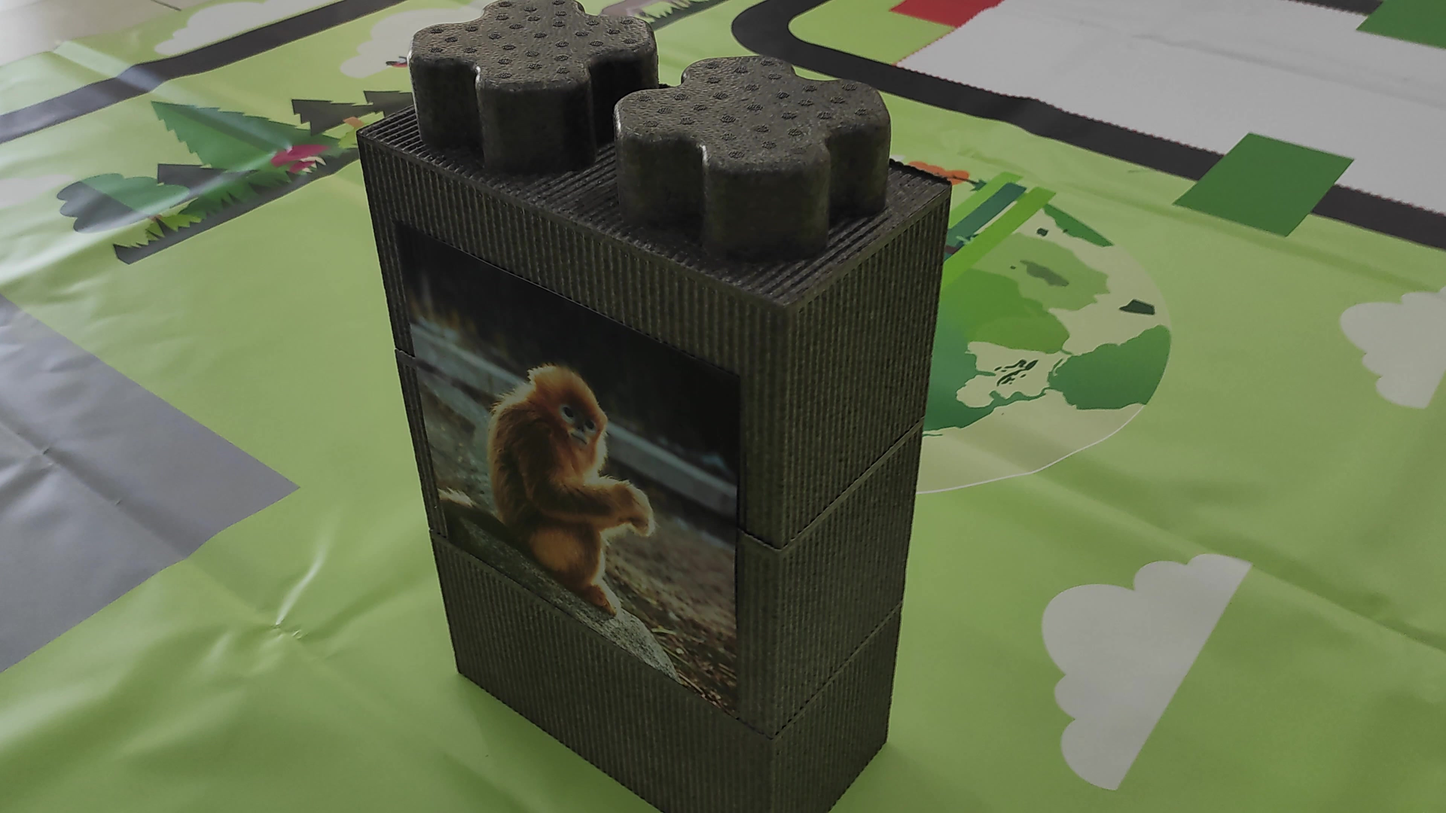monkey: (438, 324, 704, 611)
